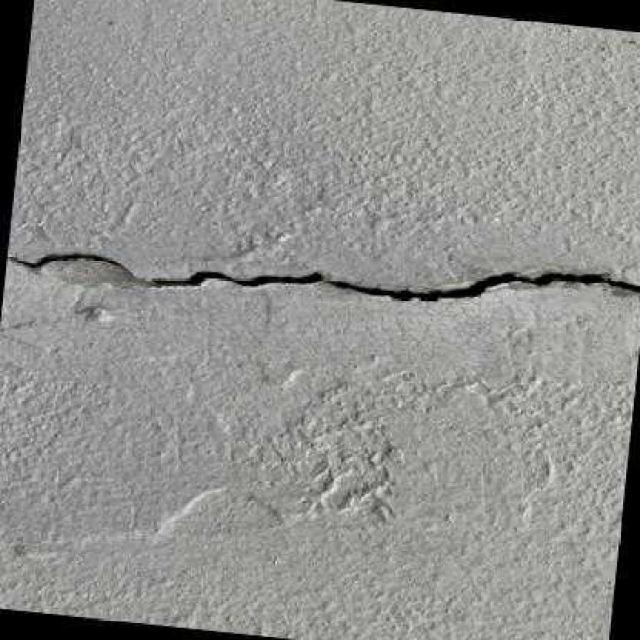D00: (5, 253, 322, 286), (326, 272, 640, 301)
